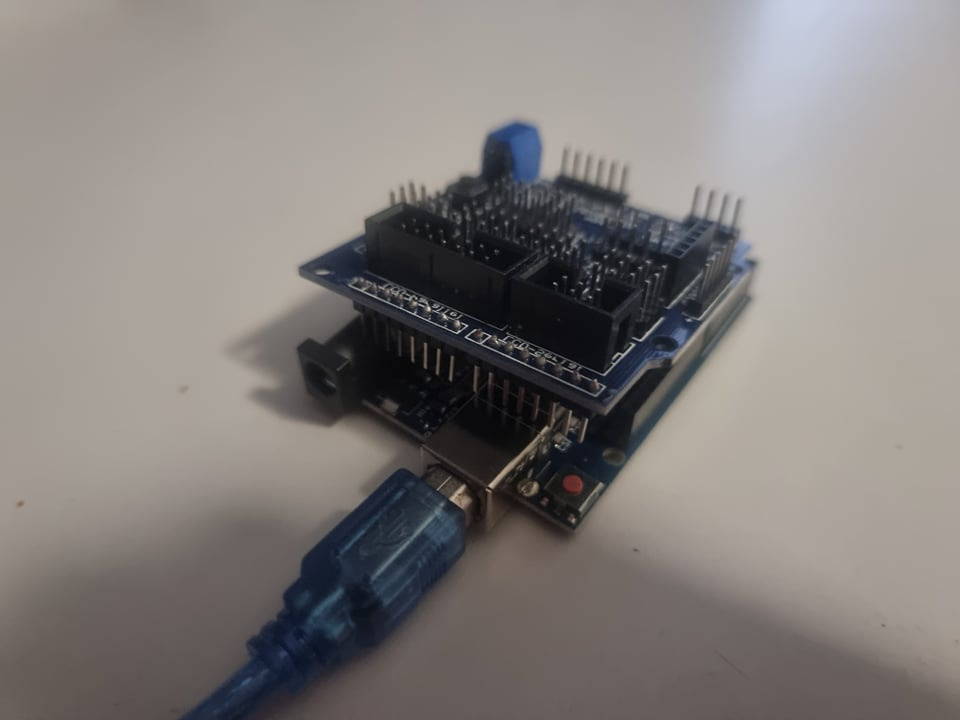5V EXPANSION: (295, 115, 758, 348)
UNO R3: (282, 326, 619, 530)
